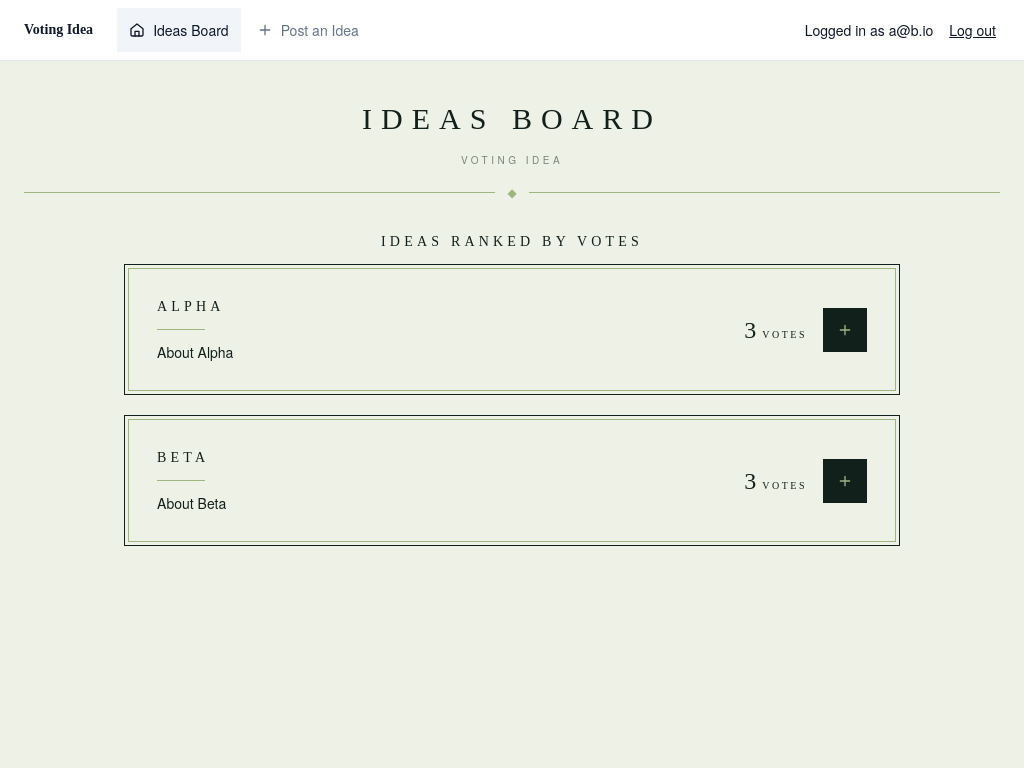
Board upvote › [AC-027] adds exactly one vote, shows 'You have voted' and re-ranks the board
This screenshot has width=1024, height=768.
Click the button named "Vote for Beta".
click(845, 480)  # box [823,458,867,502]
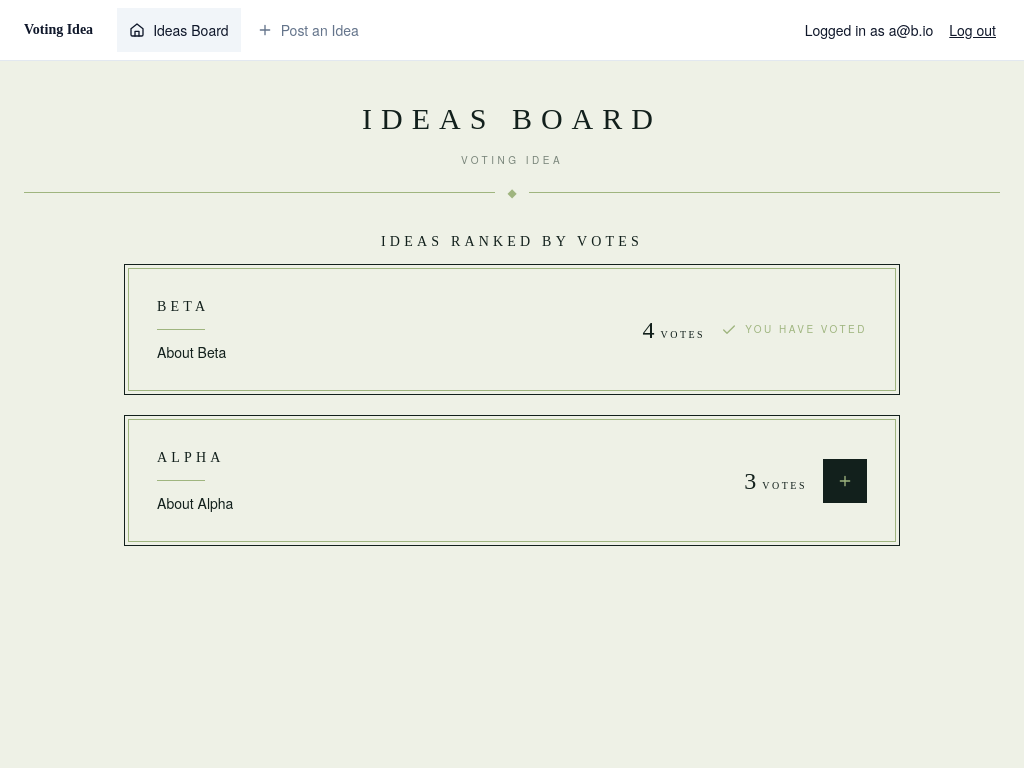
Expected: the list item "Alpha About Alpha 3 votes" is shown, [128,419,896,542]
Result: the text "You have voted" is shown at [721,322,867,338]
Result: the list item "Beta About Beta 4 votes You have voted" is shown at [128,268,896,391]
